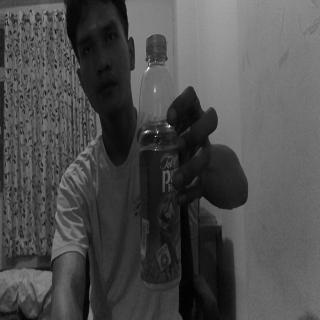plastic_bottles: (135, 35, 184, 291)
